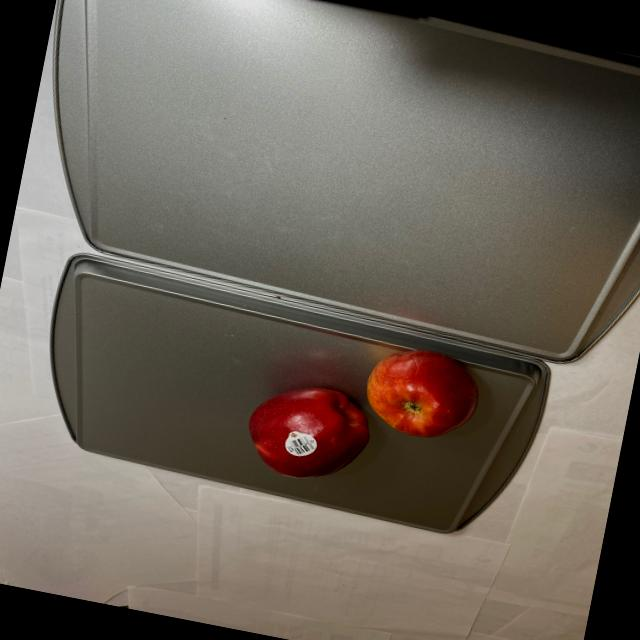apple: (238, 319, 490, 511)
